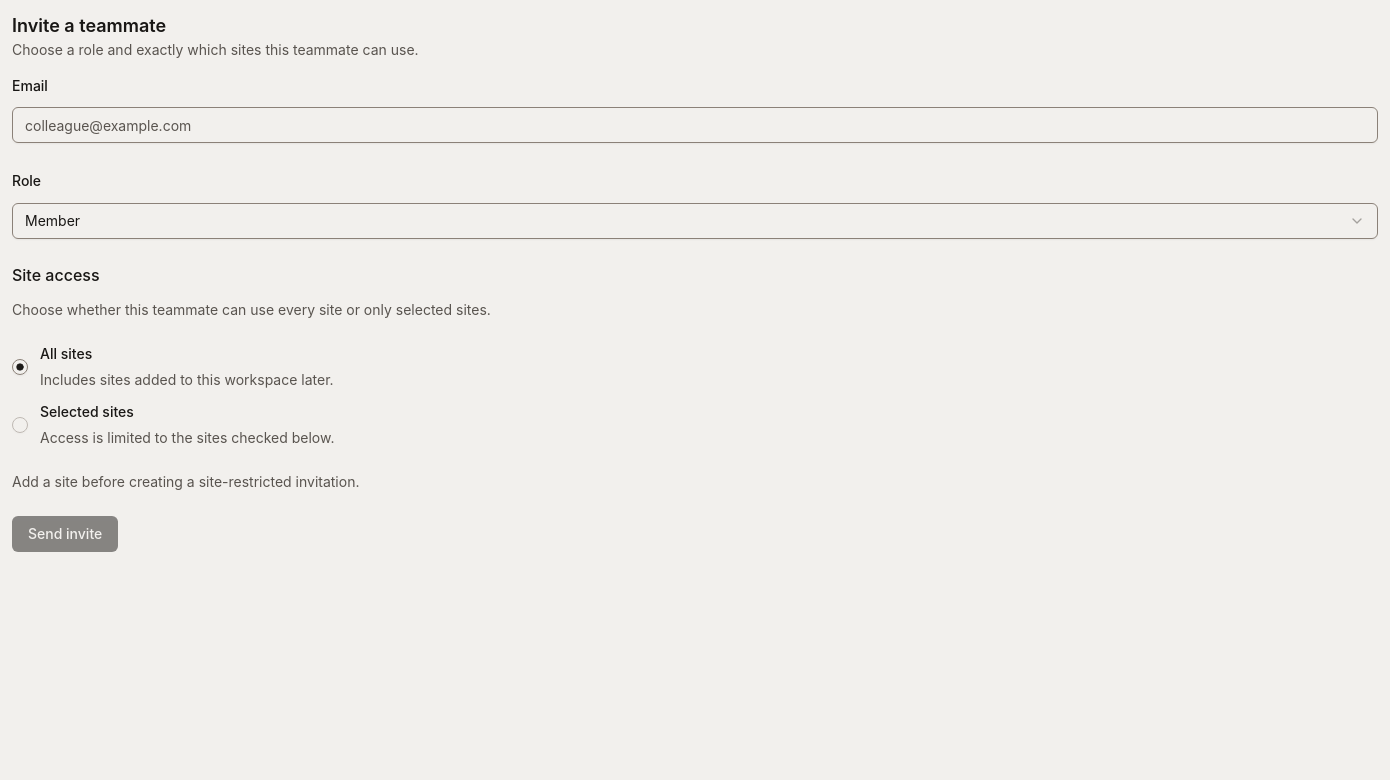
Scenario: InviteMemberForm — inline email validation › shows an inline validation error for a malformed email, wired via aria-describedby
Step 1. Type "not-an-email" into the field → (695, 125), box x1=12 y1=107 x2=1378 y2=143
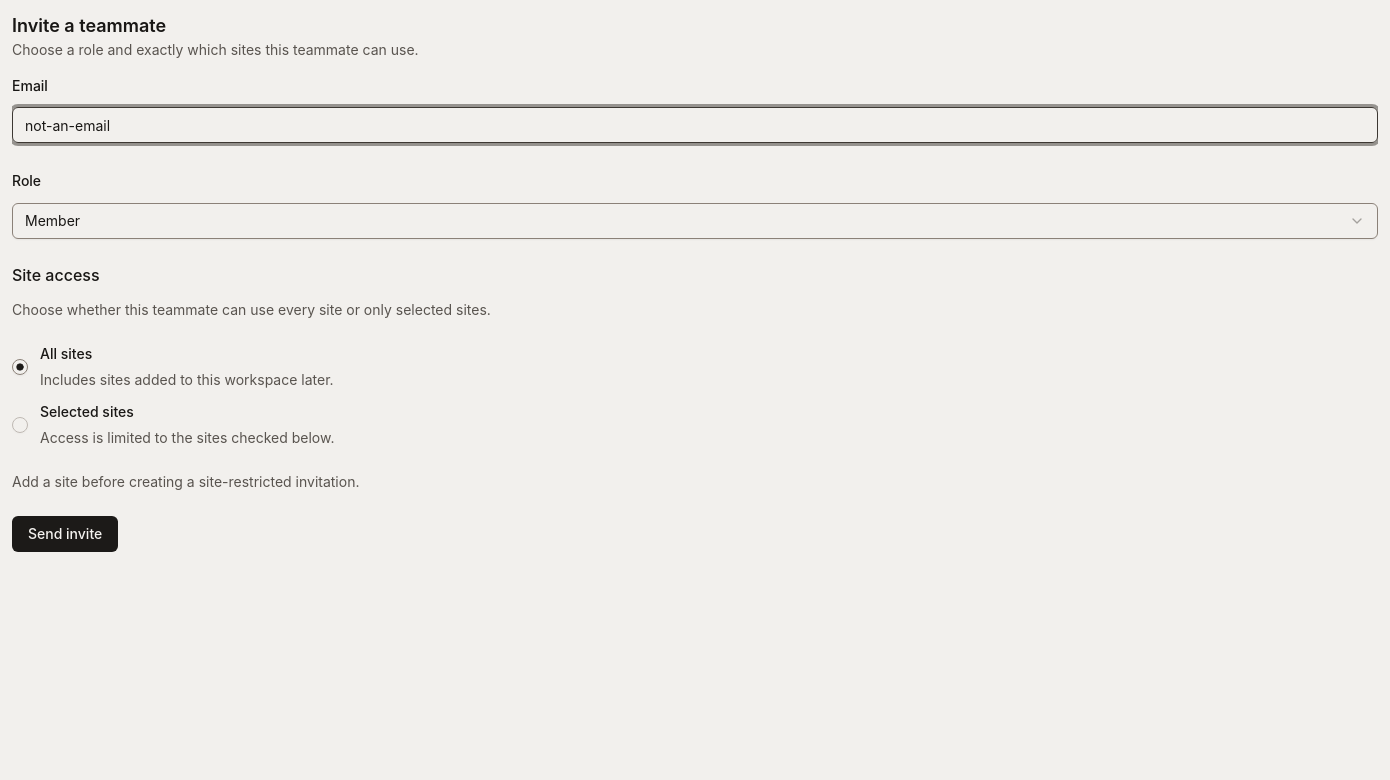
Step 2. Press Tab
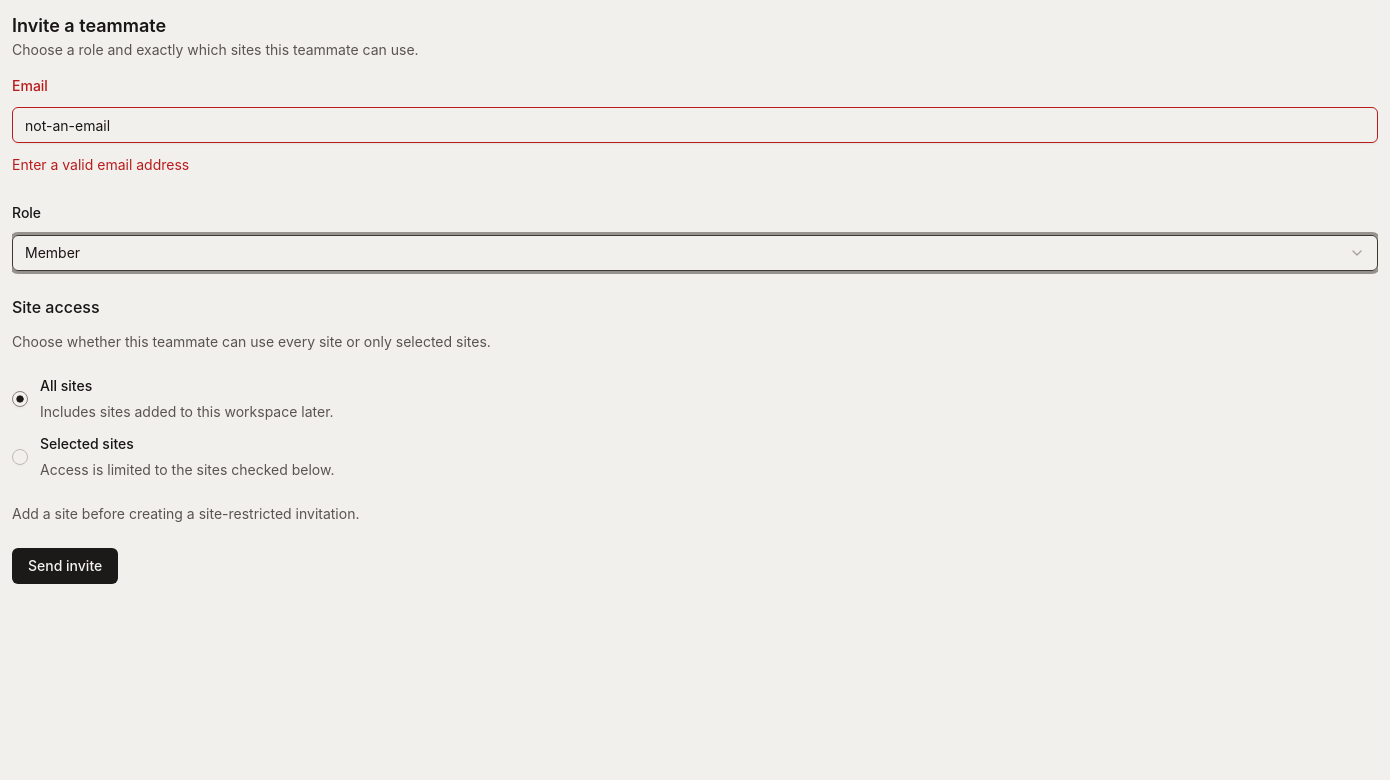
A valid address clears the inline error.
Step 3. Replace the text in the field with "ok@example.com" → (695, 125), box x1=12 y1=107 x2=1378 y2=143
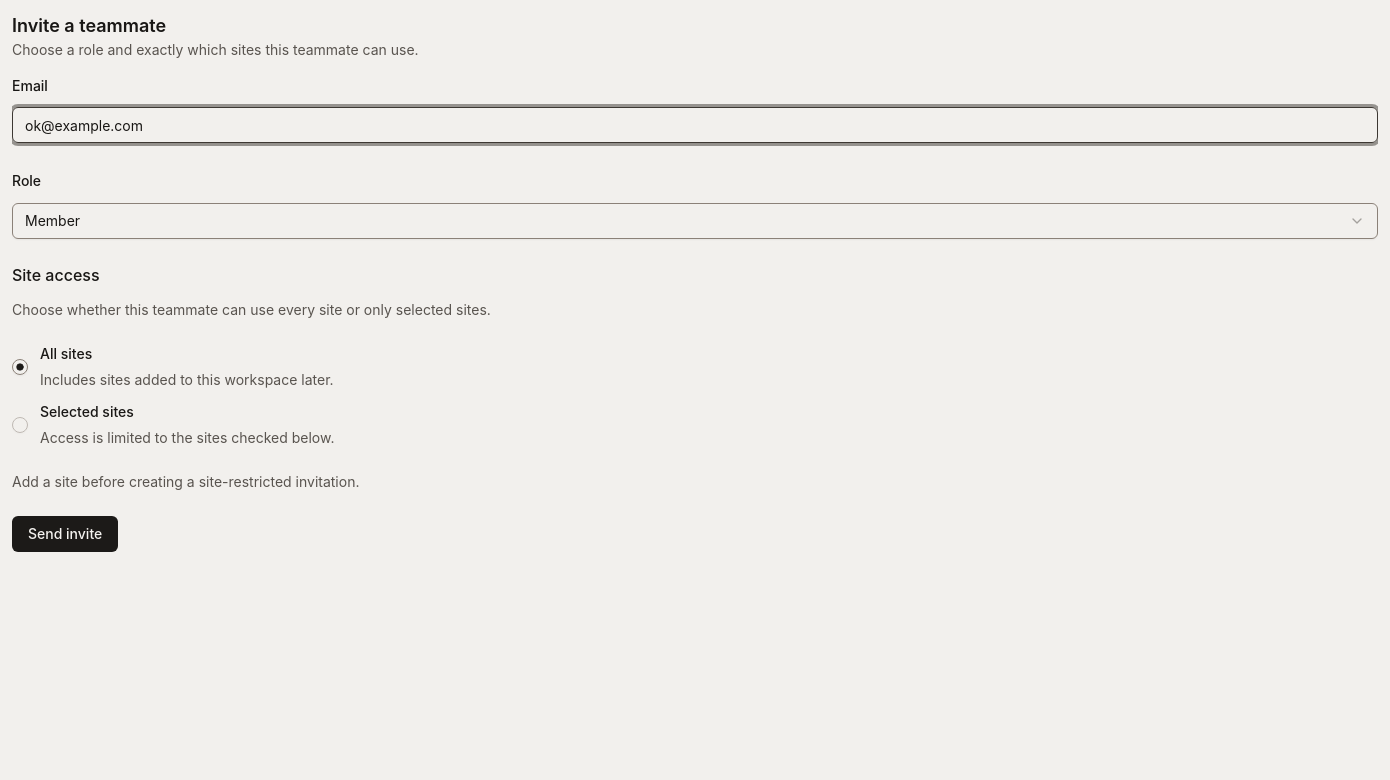
Expected: the message "Enter a valid email address" is gone
